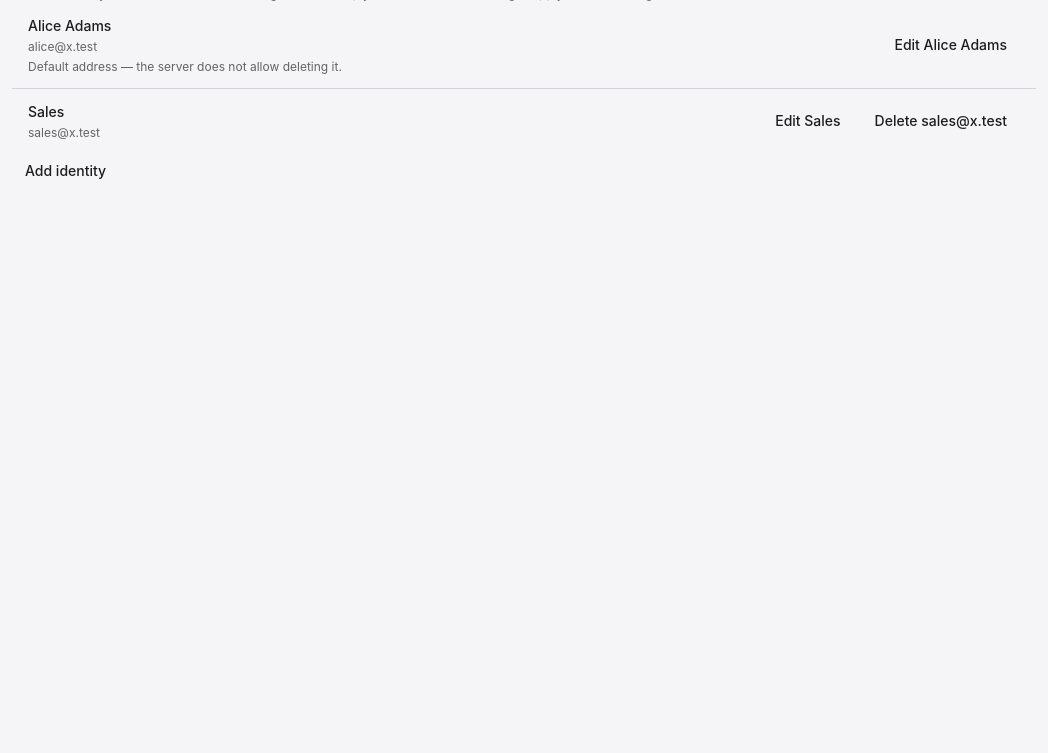
Test: <IdentitiesSection> › reports a stale ifInState as a conflict and repaints from the server
This screenshot has width=1048, height=753.
Click the button "Edit Alice Adams" at (951, 46), box [882, 28, 1020, 62]
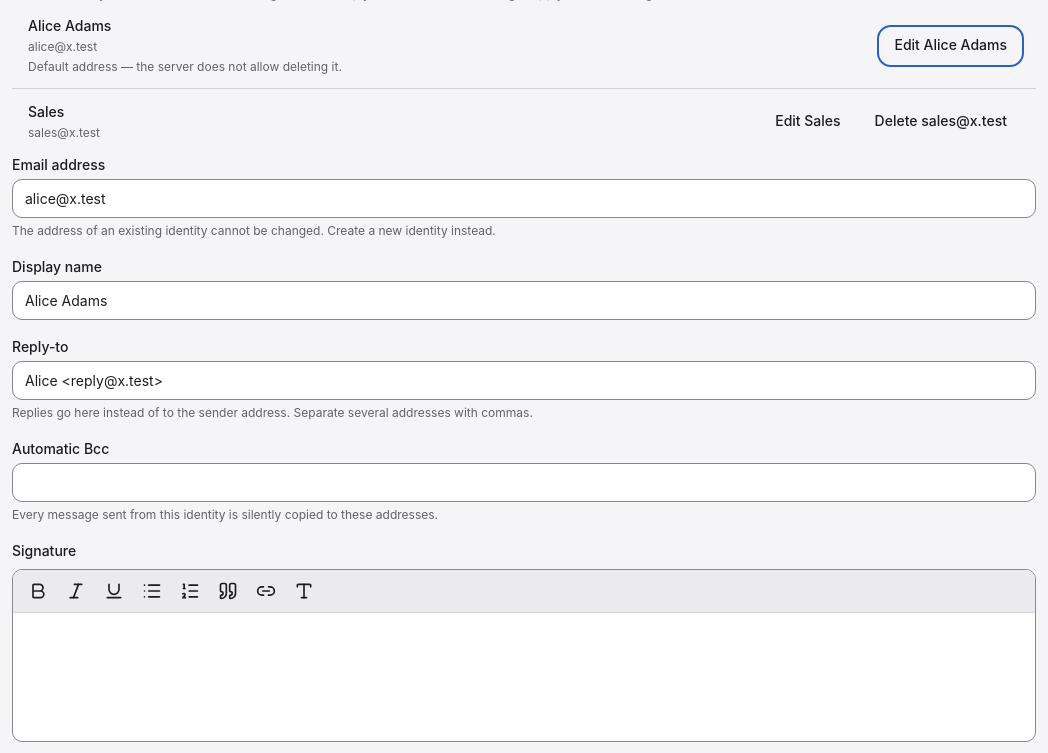
Check: the button named "Bold" is enabled, box [21, 574, 55, 608]
Replace the text in the field labelled "Display name" with "Renamed here" at (524, 300), box [12, 281, 1036, 320]
(page scrolled)
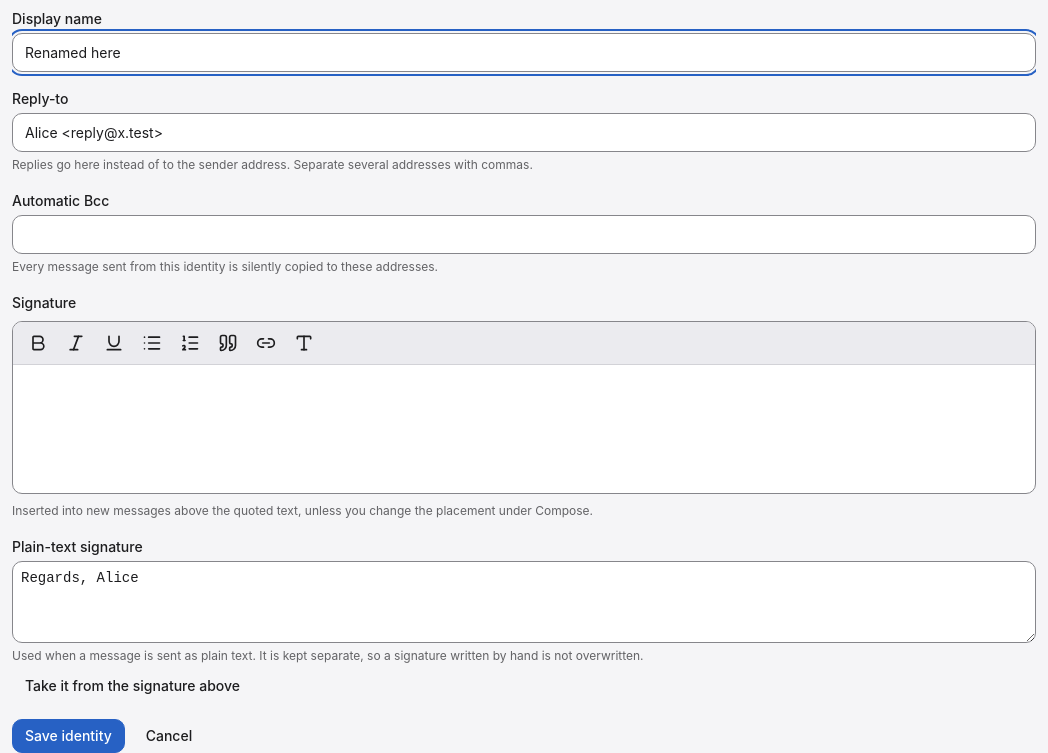
Click the button "Save identity" at (68, 736), box [12, 719, 125, 752]
(page scrolled)
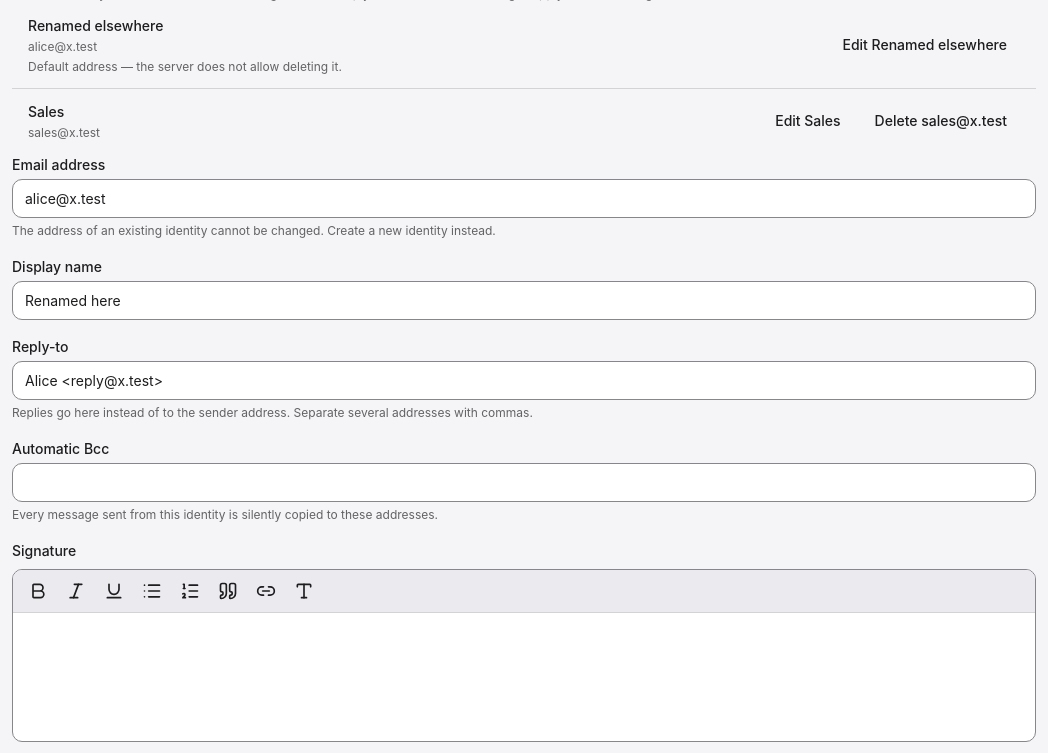
Check: the text "Renamed elsewhere" is shown, box [28, 17, 163, 34]
